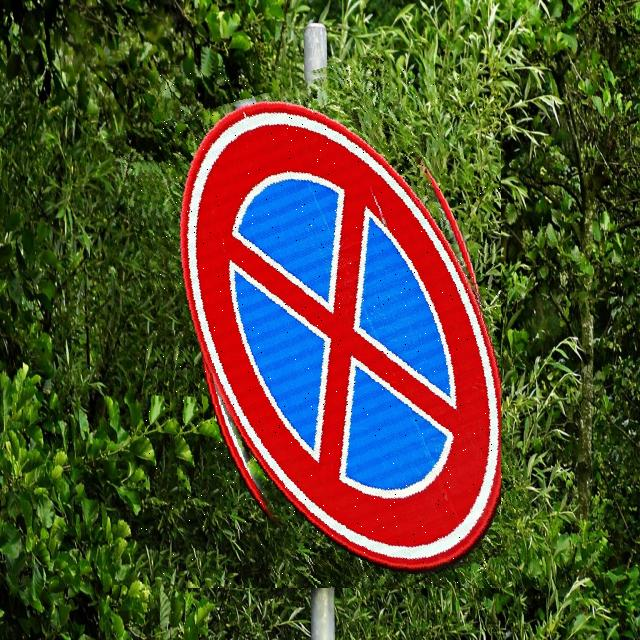no stopping: (138, 64, 501, 588)
